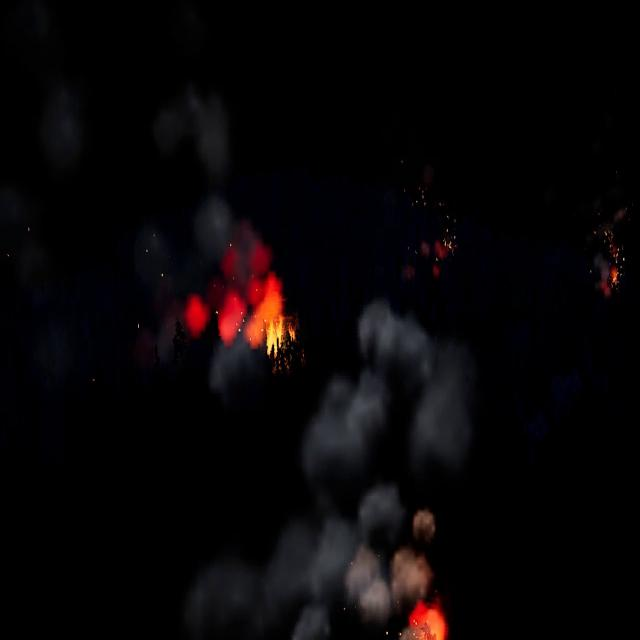fire: (243, 276, 298, 358), (402, 185, 458, 251), (404, 598, 452, 640), (595, 231, 625, 295), (612, 267, 624, 292)
smoke: (196, 301, 476, 640), (139, 79, 273, 351), (402, 240, 448, 279)
